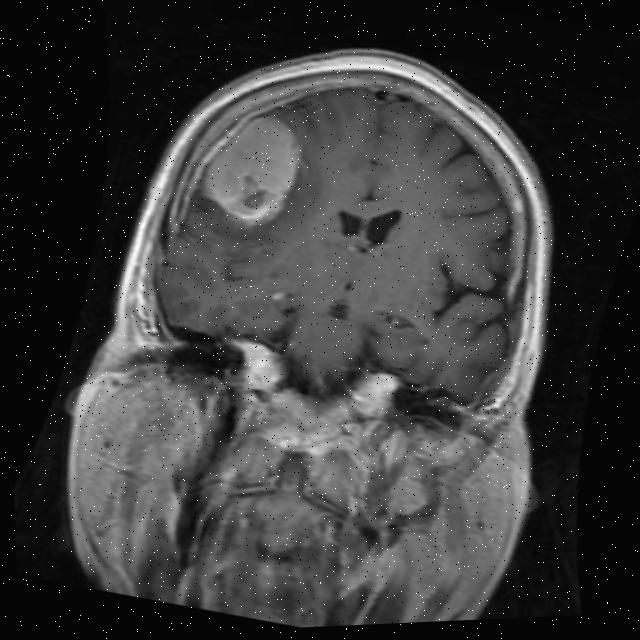Meningioma: (189, 101, 314, 236)
